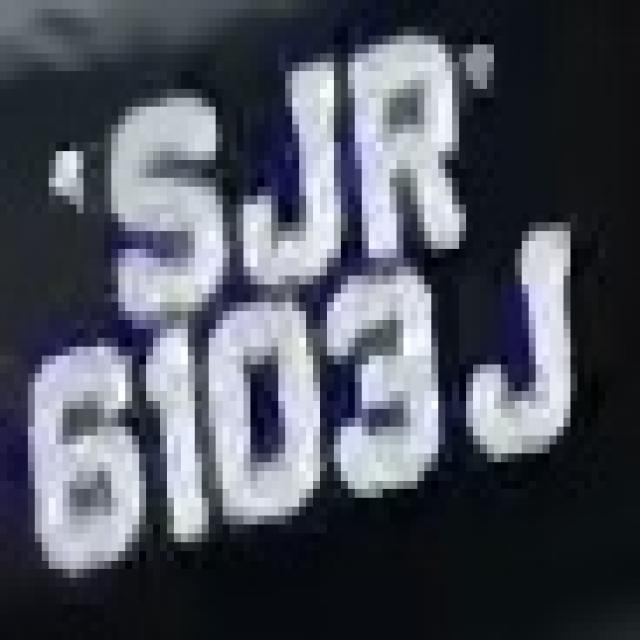0: (209, 294, 320, 542)
1: (132, 329, 223, 560)
3: (313, 258, 452, 533)
6: (7, 338, 139, 596)
J: (459, 204, 591, 489), (222, 44, 354, 294)
R: (341, 35, 452, 266)
S: (84, 71, 222, 329)
